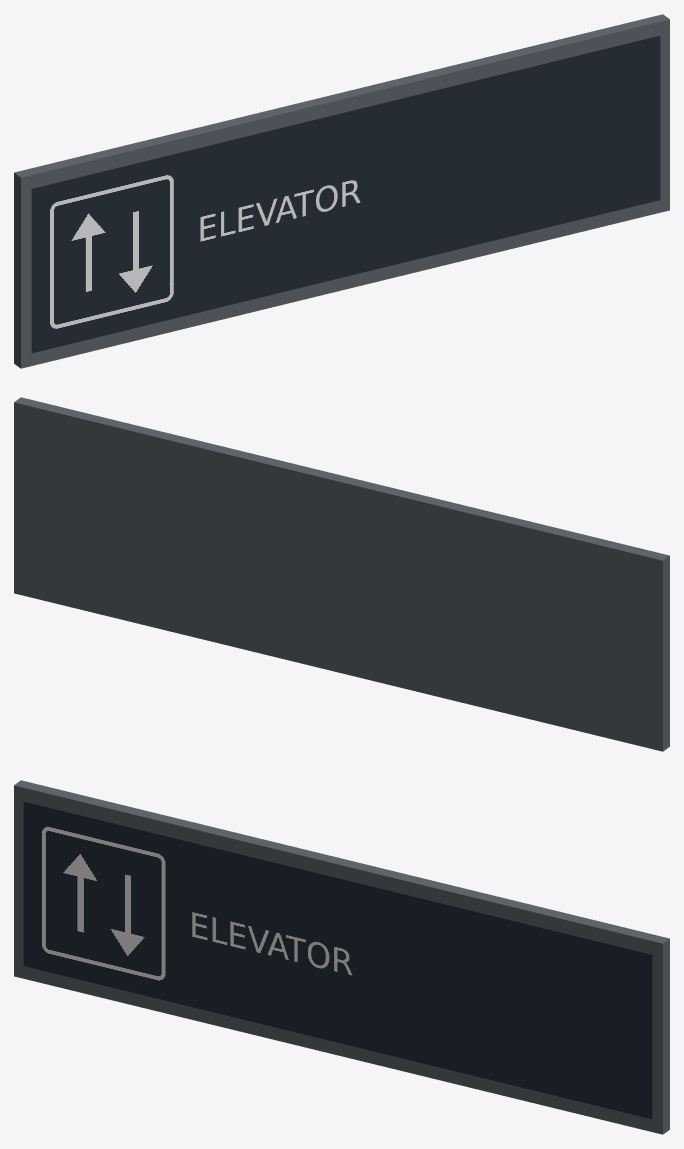
File: 13_wall_elevator.glb
The picture shows the model from 3 angles, top to bottom: view 1: azimuth 30°, elevation 25°; view 2: azimuth 150°, elevation 25°; view 3: azimuth 330°, elevation 25°; orthographic projection.
Parts seen in each view (by area): view 1: Sign_Face, Housing; view 2: Housing; view 3: Sign_Face, Housing.
Boxes of the visible parts, box(x1,y1,x2,y2) form: Sign_Face: box(31, 35, 660, 353); Housing: box(14, 14, 669, 368); Housing: box(14, 397, 669, 751); Sign_Face: box(23, 801, 652, 1119); Housing: box(14, 780, 669, 1134).
Bounding box in the file's own units: 0.64 × 0.18 × 0.013.
Materials: 2 (1 with a texture image).
